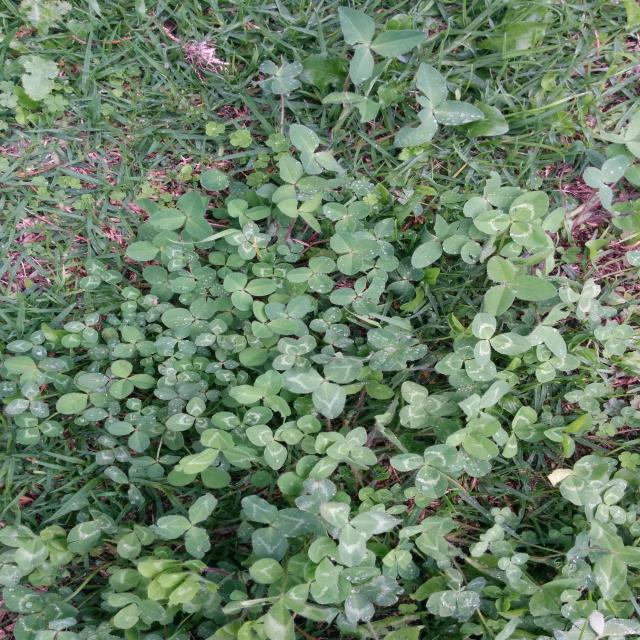Four Leaf Clover: (224, 222, 271, 260), (272, 335, 316, 374)
